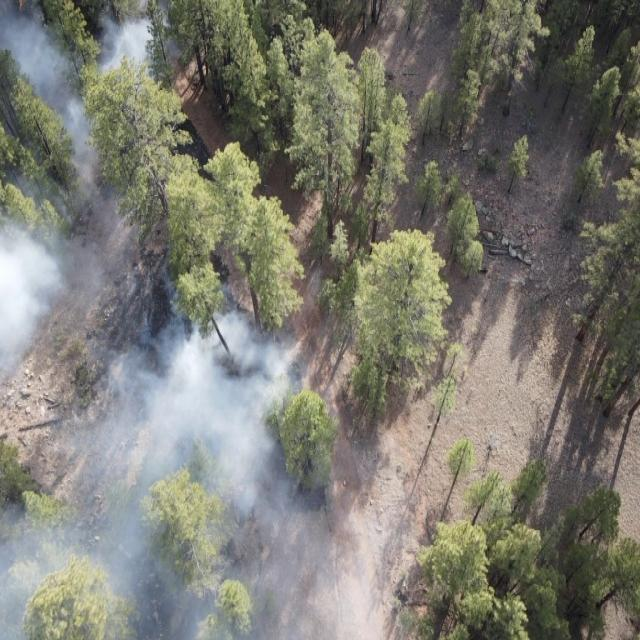fire: (18, 1, 25, 10)
smoke: (2, 293, 392, 639), (0, 183, 154, 386), (0, 0, 185, 114), (20, 111, 101, 205)
